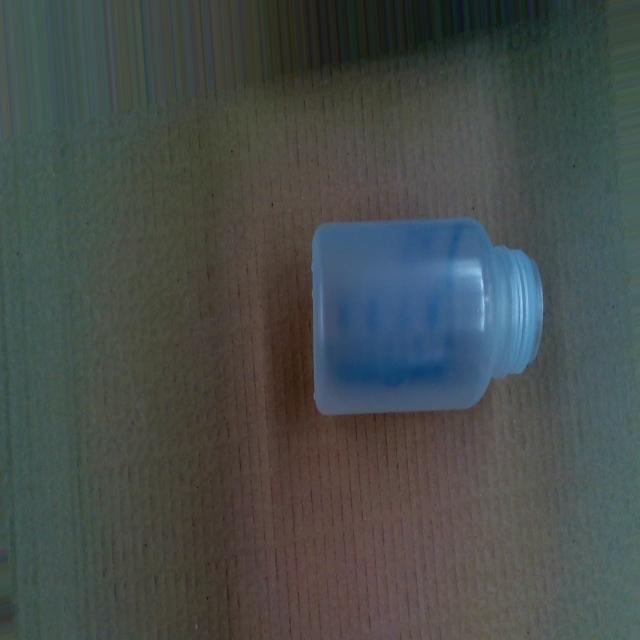bottle: (314, 218, 544, 413)
